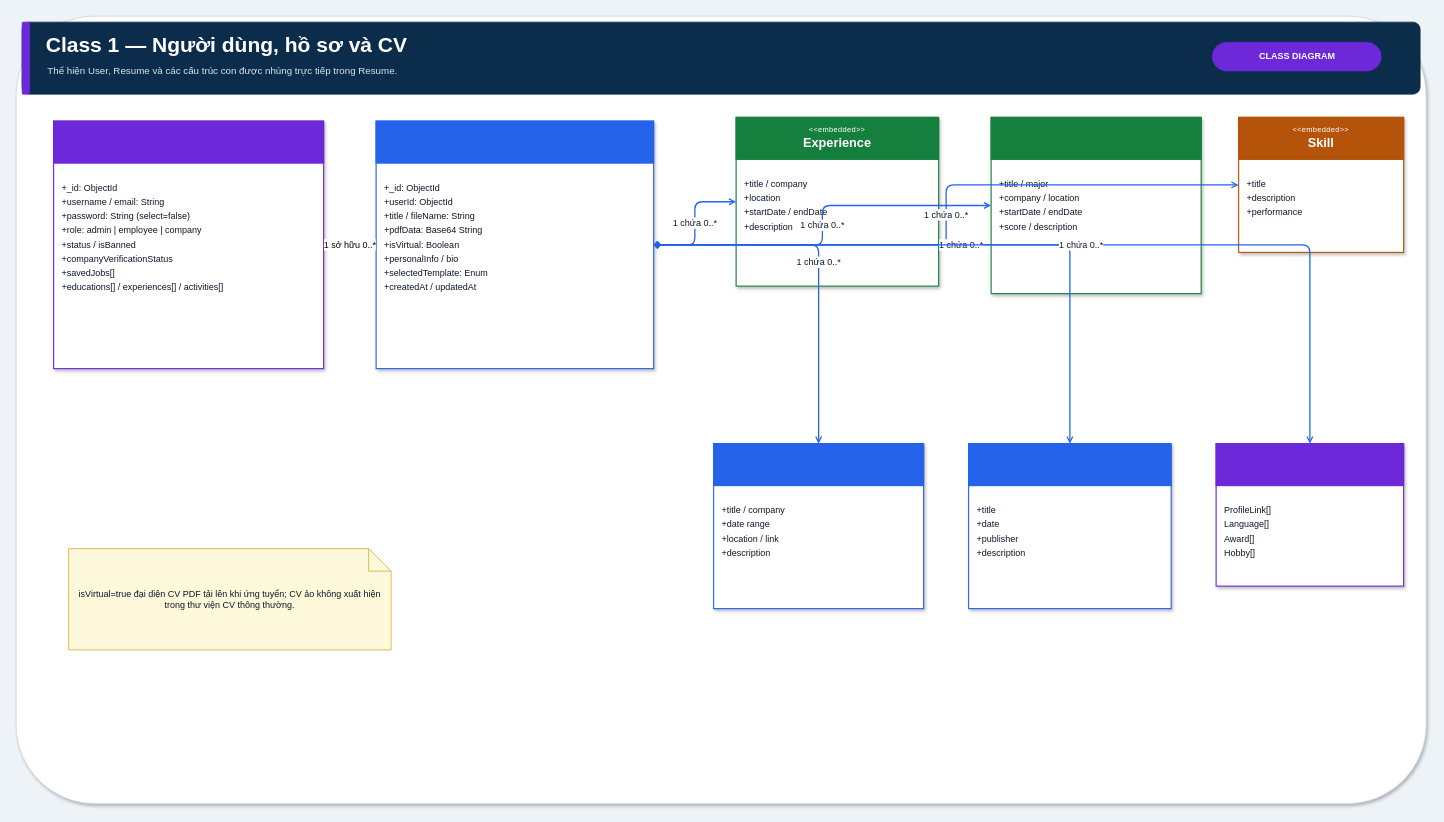
This 1444x822 diagram has some shape labels left out. The centre of each missing label's shape, as x and y in pixels:
"<<embedded>> Certificate" goes at point 1069,464.
"<<embedded>> Các mục bổ sung" goes at point 1309,464.
"<<embedded>> Education" goes at point 1095,138.
"<<embedded>> Project" goes at point 818,464.
"<<model>> Resume" goes at point 514,141.
"<<model>> User" goes at point 188,141.
